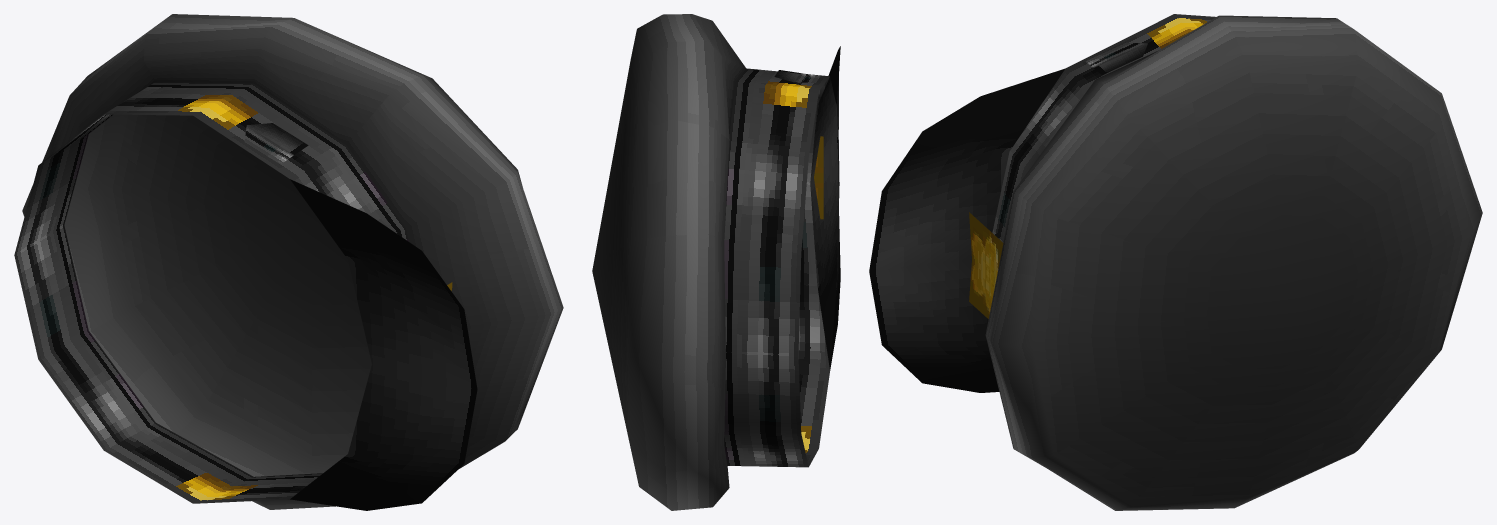
The model's file is cap_cap_school.dae.
3 renders of one model, left to right at view 1: azimuth 30°, elevation 25°; view 2: azimuth 150°, elevation 25°; view 3: azimuth 270°, elevation 25°, orthographic. The views are drawn at different scales.
Visible parts, largest first — view 1: cap_cap_school; view 2: cap_cap_school; view 3: cap_cap_school.
Boxes of the visible parts, left/top/right/bottom form: cap_cap_school: left=14, top=14, right=563, bottom=510; cap_cap_school: left=592, top=14, right=840, bottom=510; cap_cap_school: left=869, top=14, right=1482, bottom=510.
Size of the model in its own units: 20.85 by 26.26 by 30.38.
2 materials, 2 textured.
